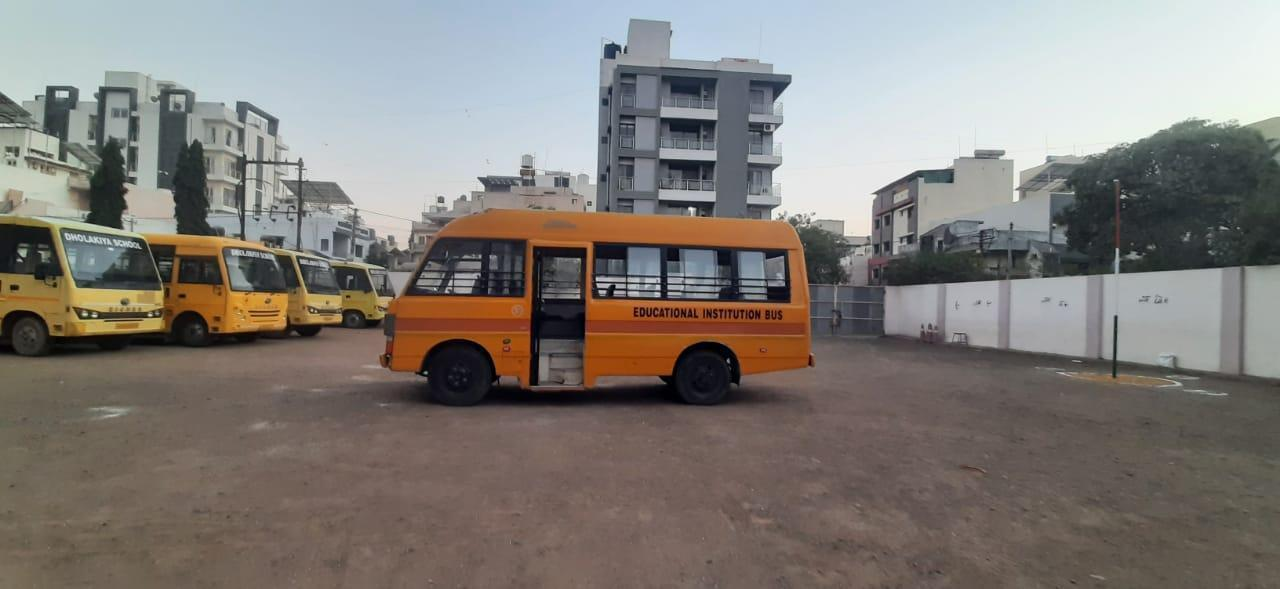Bus: (382, 204, 821, 418), (8, 215, 172, 360), (182, 233, 289, 354), (288, 249, 347, 349), (345, 257, 403, 340)
